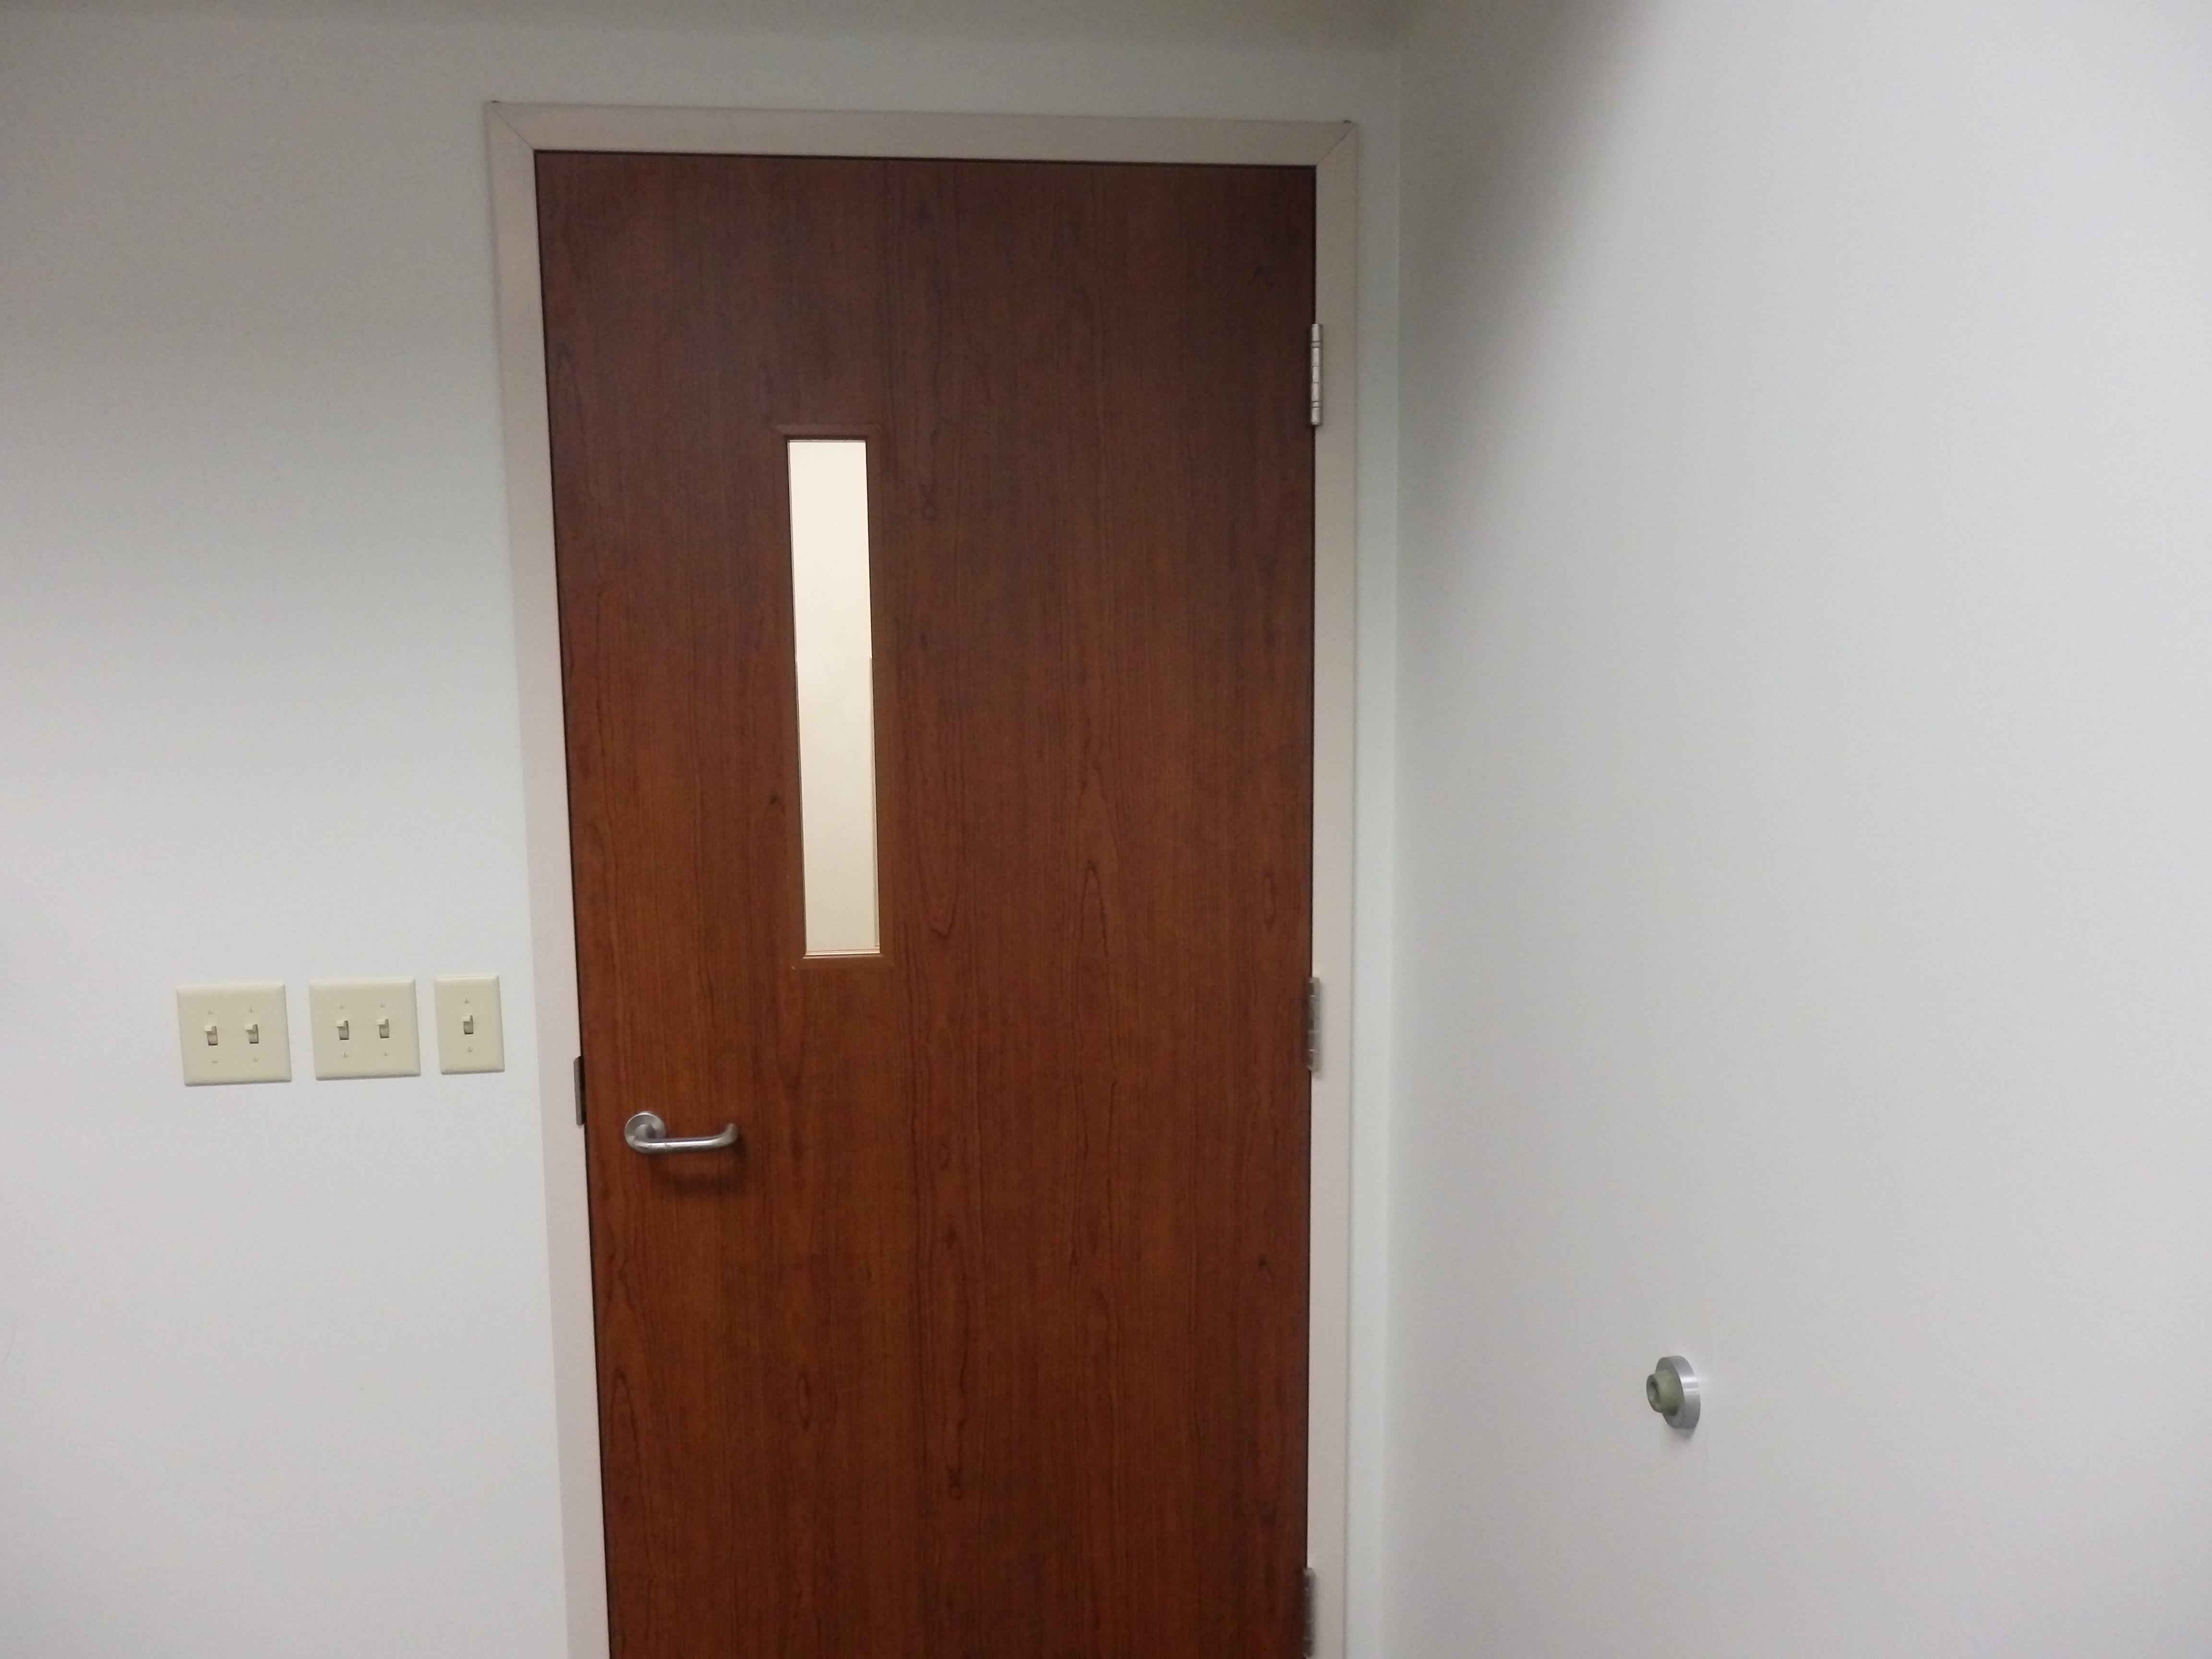door: (488, 101, 1360, 1649)
